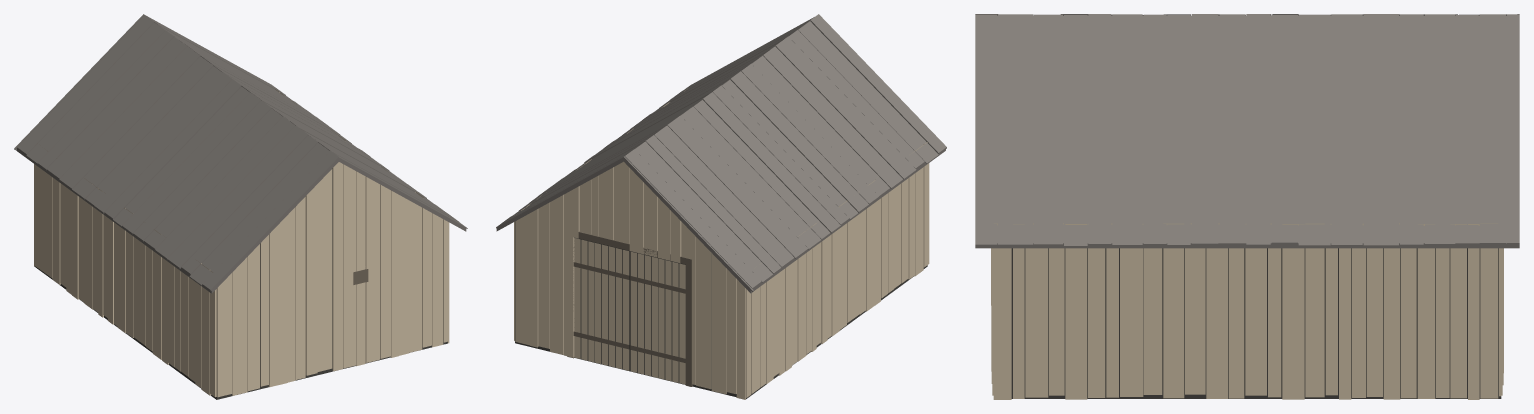
The model's file is recon_1835_north_w1_018__inferred_1835.glb.
3 renders of one model, left to right at view 1: azimuth 30°, elevation 25°; view 2: azimuth 150°, elevation 25°; view 3: azimuth 270°, elevation 25°, orthographic. The views are drawn at different scales.
Parts seen in each view (by area): view 1: recon_1835_north_w1_018__inferred_1835; view 2: recon_1835_north_w1_018__inferred_1835; view 3: recon_1835_north_w1_018__inferred_1835.
Part boxes in pixels (bbox=[...]): recon_1835_north_w1_018__inferred_1835: bbox=[14, 14, 467, 399]; recon_1835_north_w1_018__inferred_1835: bbox=[496, 14, 946, 399]; recon_1835_north_w1_018__inferred_1835: bbox=[975, 14, 1519, 399].
Size of the model in its own units: 6.69 by 5.44 by 8.76.
